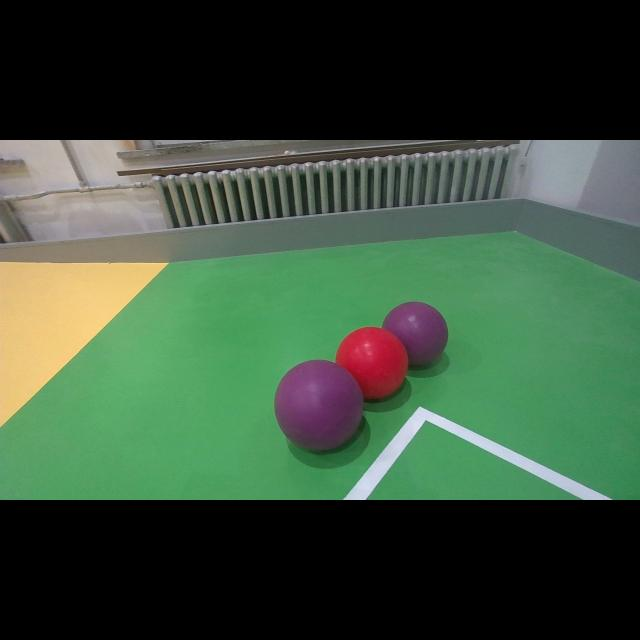P: (274, 360, 364, 452), (382, 299, 448, 371)
R: (336, 327, 408, 399)
